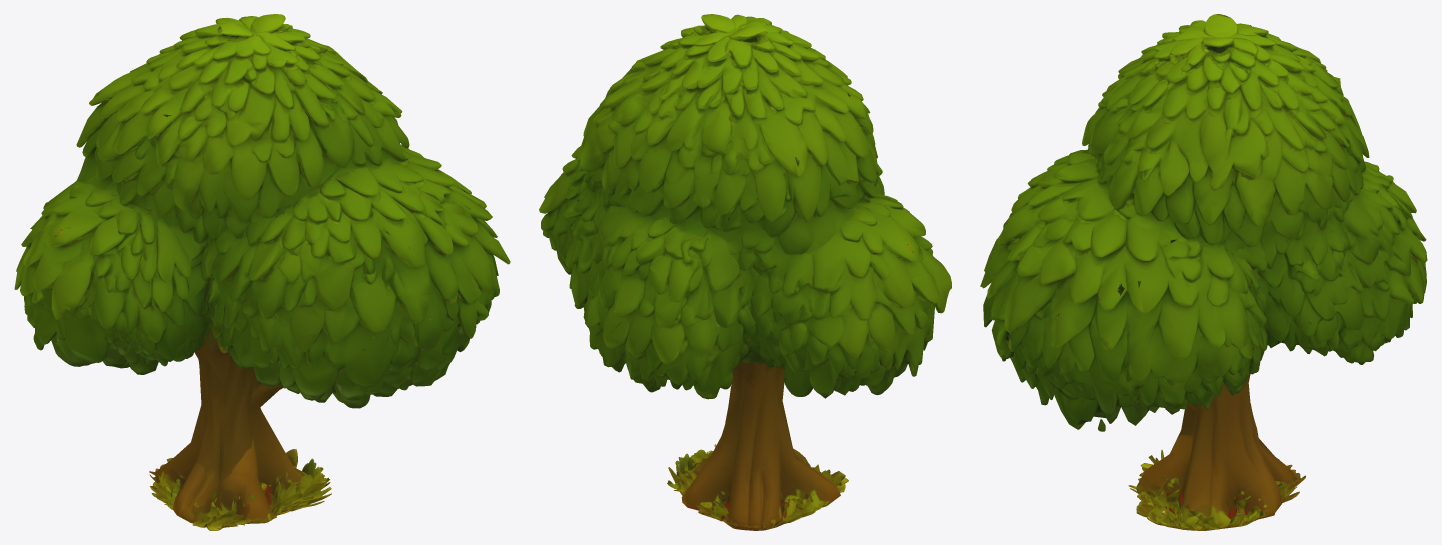
The model's file is green_tree_basic_shaded.high_fidelity.glb.
3 renders of one model, left to right at view 1: azimuth 30°, elevation 25°; view 2: azimuth 150°, elevation 25°; view 3: azimuth 270°, elevation 25°, orthographic. The views are drawn at different scales.
Parts seen in each view (by area): view 1: model; view 2: model; view 3: model.
Boxes of the visible parts, left/top/right/bottom form: model: left=14, top=14, right=510, bottom=530; model: left=539, top=14, right=951, bottom=530; model: left=980, top=14, right=1427, bottom=530.
Bounding box in the file's own units: 1.61 × 1.78 × 1.51.
Materials: 1 (1 with a texture image).
